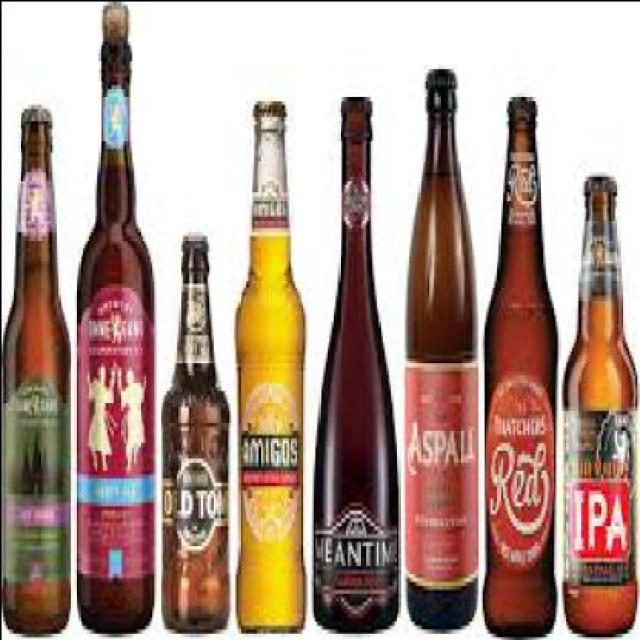GLASS: (72, 31, 153, 624), (308, 91, 395, 624), (477, 91, 554, 632), (399, 80, 475, 628), (231, 108, 304, 628), (0, 119, 68, 636), (560, 187, 634, 636), (157, 230, 226, 624)
METAL: (16, 99, 46, 119), (251, 95, 283, 108), (420, 63, 452, 75)
